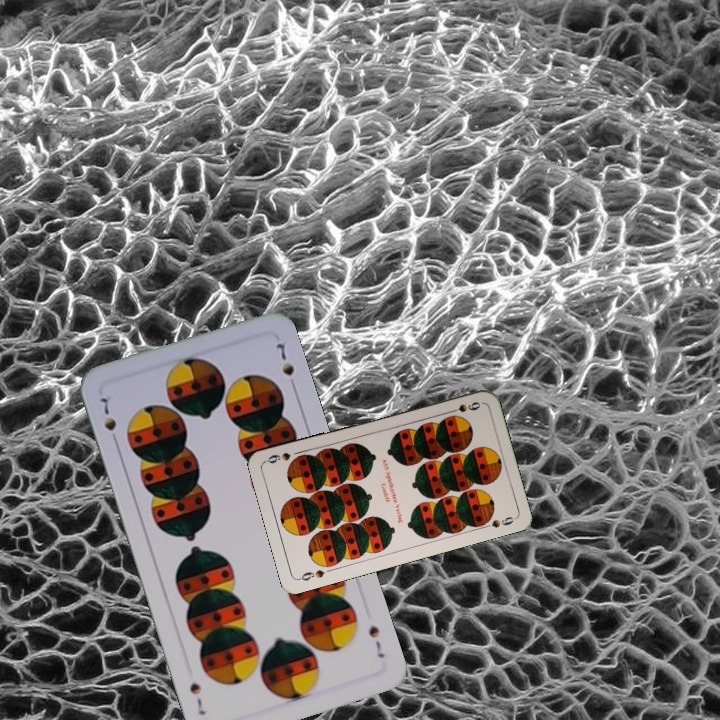S7: (96, 393, 121, 448), (364, 620, 388, 661)
S9: (444, 398, 483, 416), (295, 566, 327, 583)
